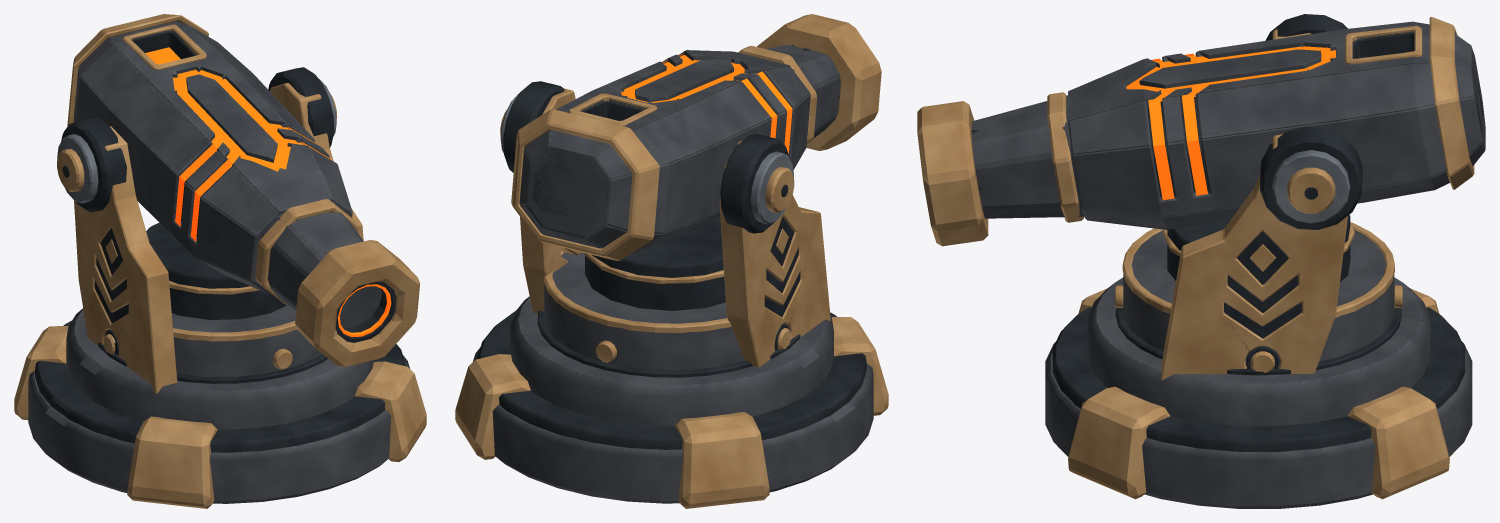
Rendered from runic-fire-optimized.glb.
The picture shows the model from 3 angles, left to right: view 1: azimuth 30°, elevation 25°; view 2: azimuth 150°, elevation 25°; view 3: azimuth 270°, elevation 25°; orthographic projection. The views are drawn at different scales.
Visible parts, largest first — view 1: turret_barrel_approved_geometry, turret_head_approved_geometry, turret_root_approved_geometry; view 2: turret_head_approved_geometry, turret_barrel_approved_geometry, turret_root_approved_geometry; view 3: turret_barrel_approved_geometry, turret_head_approved_geometry, turret_root_approved_geometry.
Boxes of the visible parts, x1,y1,x2,y2 form: turret_barrel_approved_geometry: [67, 14, 419, 367]; turret_head_approved_geometry: [57, 67, 374, 429]; turret_root_approved_geometry: [14, 320, 426, 508]; turret_head_approved_geometry: [500, 81, 833, 425]; turret_barrel_approved_geometry: [511, 14, 881, 260]; turret_root_approved_geometry: [455, 311, 888, 508]; turret_barrel_approved_geometry: [917, 17, 1485, 246]; turret_head_approved_geometry: [1087, 14, 1430, 426]; turret_root_approved_geometry: [1045, 288, 1472, 508].
Size of the model in its own units: 0.7703 by 0.7659 by 1.02.
Materials: 5 (4 with a texture image).
